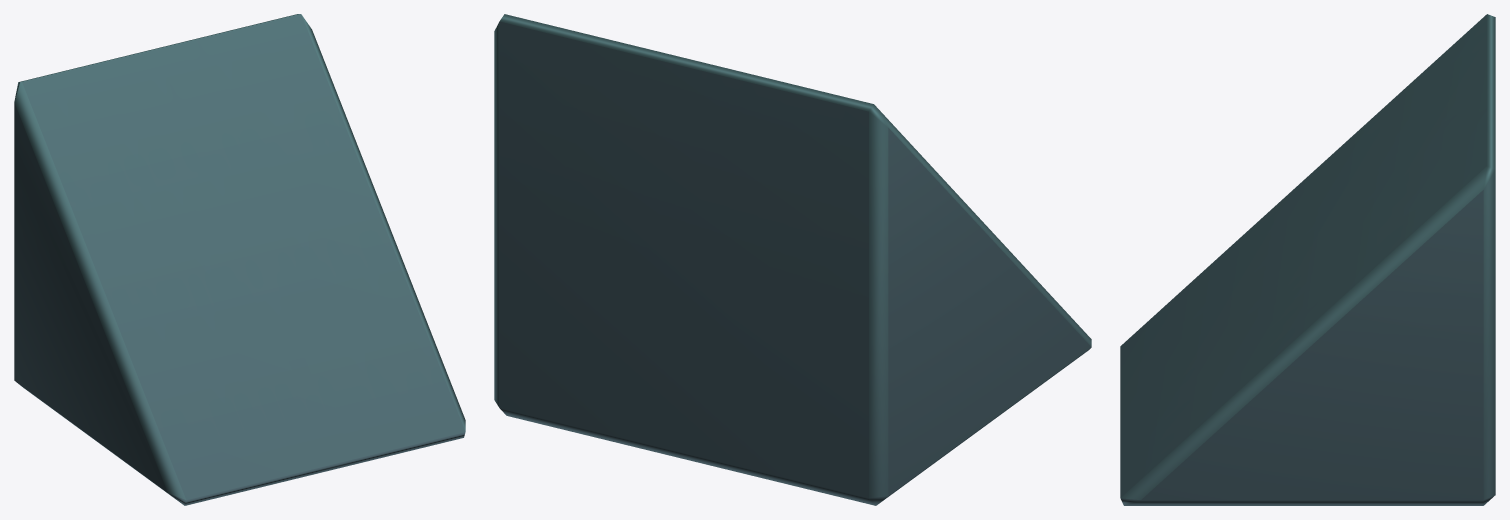
Rendered from ramp_straight_hue_2.fbx.
The picture shows the model from 3 angles, left to right: view 1: azimuth 30°, elevation 25°; view 2: azimuth 150°, elevation 25°; view 3: azimuth 270°, elevation 25°; orthographic projection. The views are drawn at different scales.
Visible parts, largest first — view 1: ramp_straight_hue_2; view 2: ramp_straight_hue_2; view 3: ramp_straight_hue_2.
Part boxes in pixels (x1,y1,x2,y2): ramp_straight_hue_2: (14, 14, 465, 505); ramp_straight_hue_2: (494, 14, 1091, 505); ramp_straight_hue_2: (1120, 14, 1495, 505).
Bounding box in the file's own units: 100 × 97.79 × 97.79.
